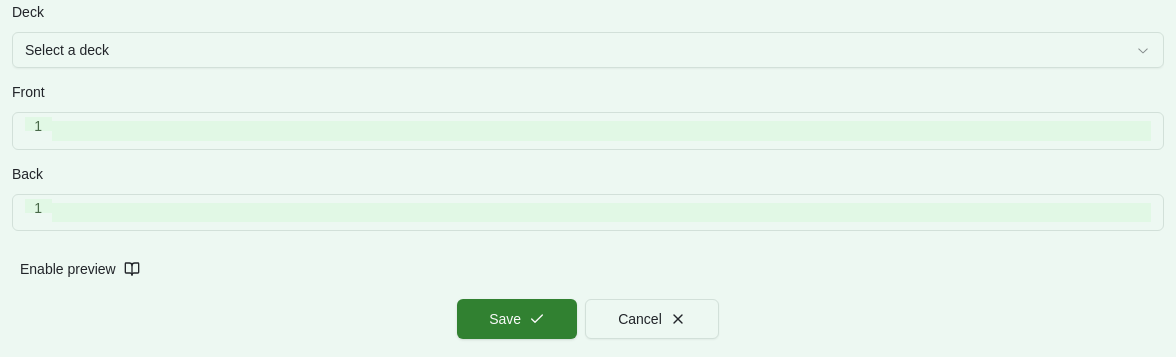
CardForm › given no form input › given deck options [{"label":"Deck 1","value":"test1"},{"label":"Deck 2","value":"test2"},{"label":"Deck 3","value":"test3"}] › given dropdown is expanded › for option {"label":"Deck 2","value":"test2"} › should render option in dropdown
Click the dropdown.
click(67, 50)  # box [12, 32, 1164, 68]
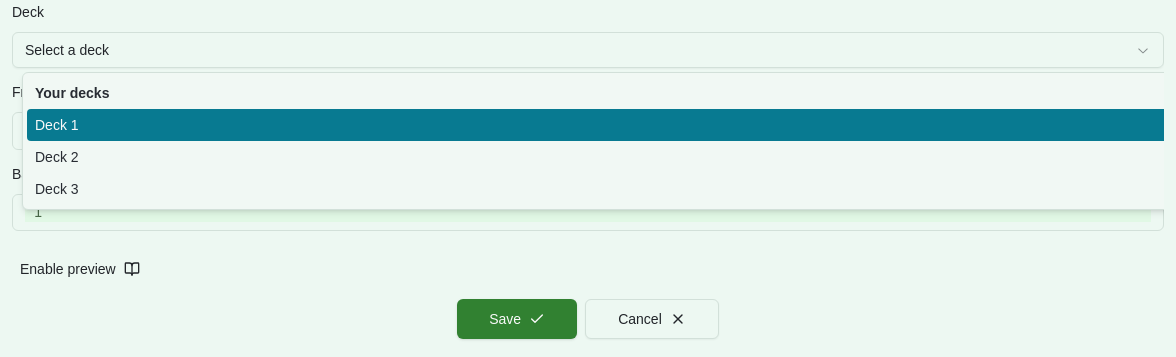
Check: the option "Deck 2" is shown, box [35, 149, 79, 165]
